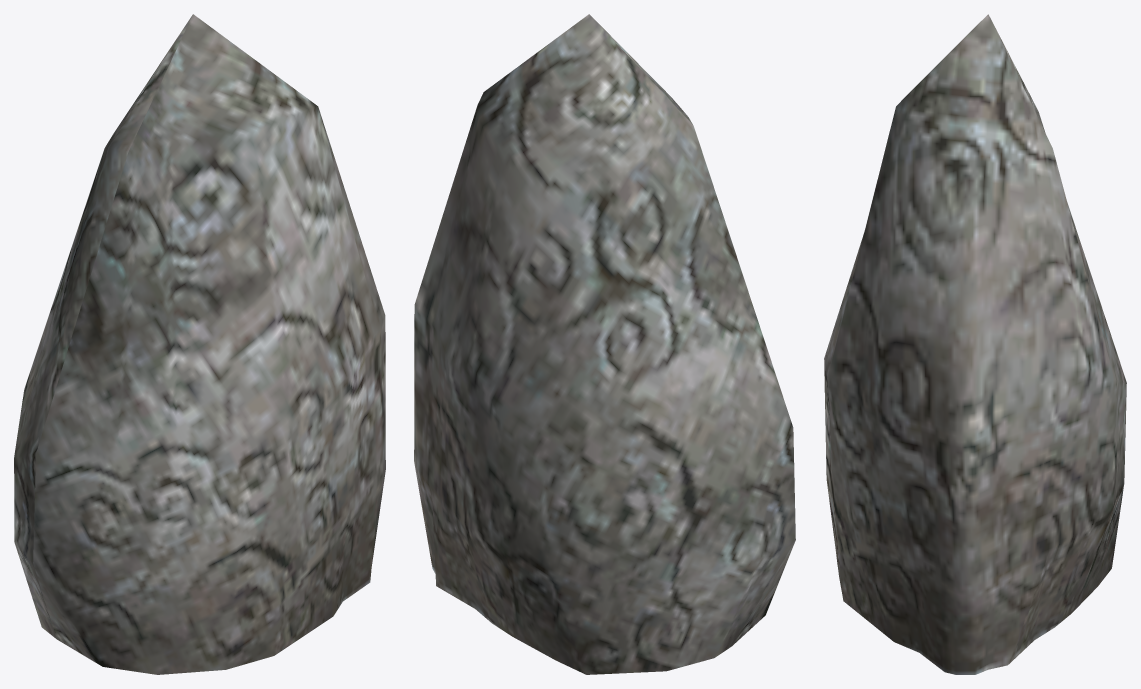
The model's file is treasure_standing_stones.glb.
The picture shows the model from 3 angles, left to right: view 1: azimuth 30°, elevation 25°; view 2: azimuth 150°, elevation 25°; view 3: azimuth 270°, elevation 25°; orthographic projection. The views are drawn at different scales.
Parts seen in each view (by area): view 1: treasure_standing_stones_part0; view 2: treasure_standing_stones_part0; view 3: treasure_standing_stones_part0.
Part boxes in pixels (<box>): treasure_standing_stones_part0: <box>14,14,385,674</box>; treasure_standing_stones_part0: <box>414,14,795,674</box>; treasure_standing_stones_part0: <box>824,14,1126,674</box>.
Size of the model in its own units: 1.21 by 1.9 by 0.8925.
1 material, 1 textured.
